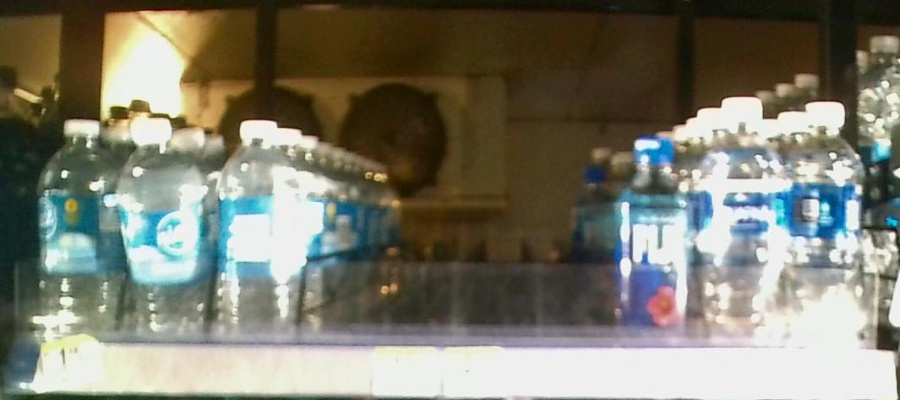bottle: (703, 87, 793, 345), (122, 114, 211, 341), (36, 111, 117, 344), (216, 114, 297, 340), (798, 95, 867, 346), (619, 129, 695, 346)
